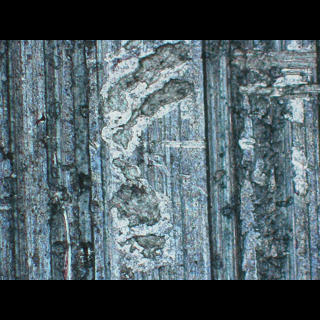d: (103, 40, 205, 273)
